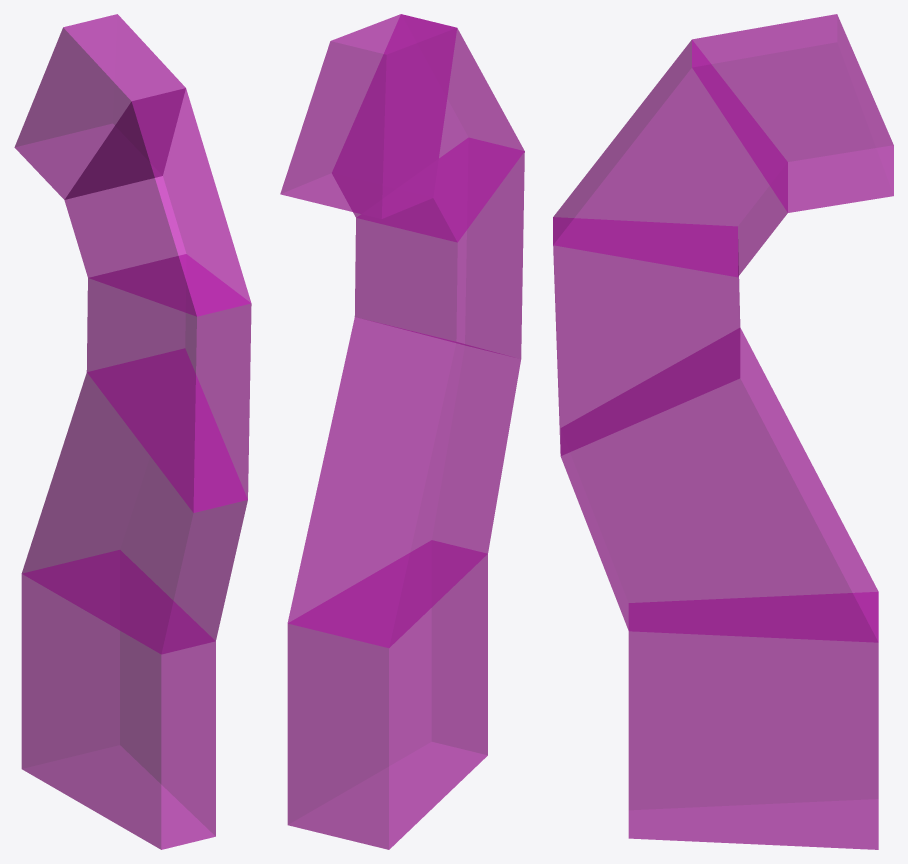
Rendered from SM_Veh_Helm_04_Collision.fbx.
3 views of the same model, side by side, from view 1: azimuth 30°, elevation 25°; view 2: azimuth 150°, elevation 25°; view 3: azimuth 270°, elevation 25° (orthographic). The views are drawn at different scales.
Parts seen in each view (by area): view 1: SM_Veh_Helm_04_Collision; view 2: SM_Veh_Helm_04_Collision; view 3: SM_Veh_Helm_04_Collision.
Boxes of the visible parts, x1,y1,x2,y2 form: SM_Veh_Helm_04_Collision: (14, 14, 251, 849); SM_Veh_Helm_04_Collision: (280, 14, 524, 849); SM_Veh_Helm_04_Collision: (553, 14, 893, 849).
Bounding box in the file's own units: 15.86 × 116 × 44.81.
